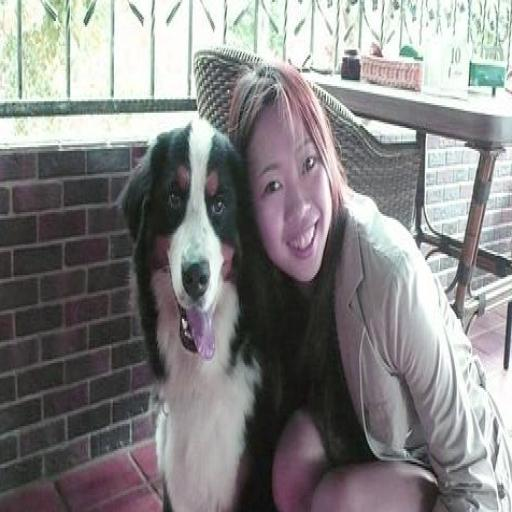dog_face: (123, 129, 248, 375)
